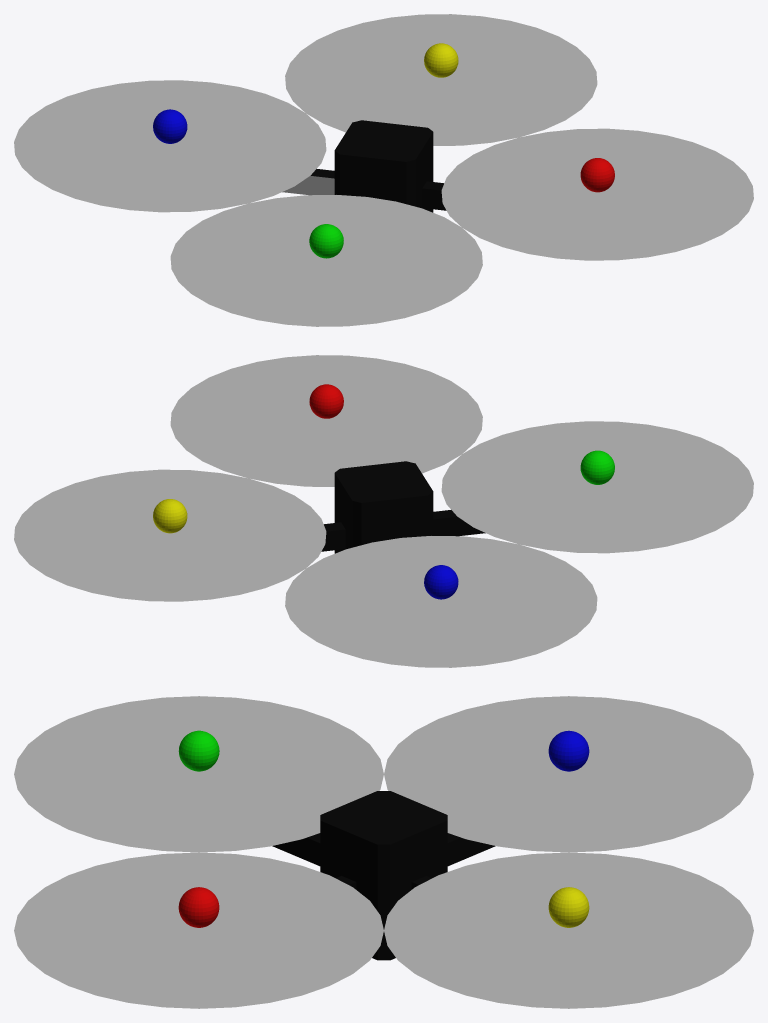
File: quad1.obj
3 views of the same model, one above another, from view 1: azimuth 30°, elevation 25°; view 2: azimuth 150°, elevation 25°; view 3: azimuth 270°, elevation 25° (orthographic). The views are drawn at different scales.
Visible parts, largest first — view 1: Quadcopter_Cube; view 2: Quadcopter_Cube; view 3: Quadcopter_Cube.
Boxes of the visible parts, <box> form: Quadcopter_Cube: <box>14,14,753,326</box>; Quadcopter_Cube: <box>14,355,753,667</box>; Quadcopter_Cube: <box>14,696,753,1008</box>.
Size of the model in its own units: 0.5799 by 0.106 by 0.5799.
